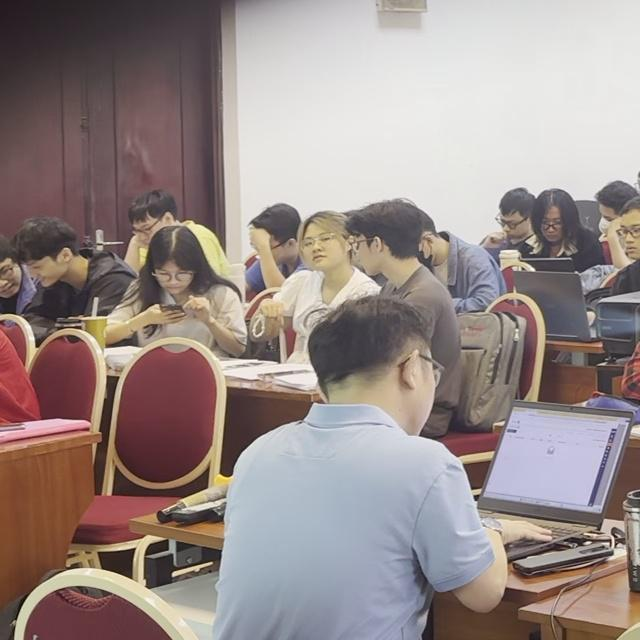Looking away: (27, 248, 72, 286), (541, 203, 568, 244), (500, 205, 530, 238)
Looking forward: (303, 222, 346, 270)
Phone use: (109, 226, 249, 354)
